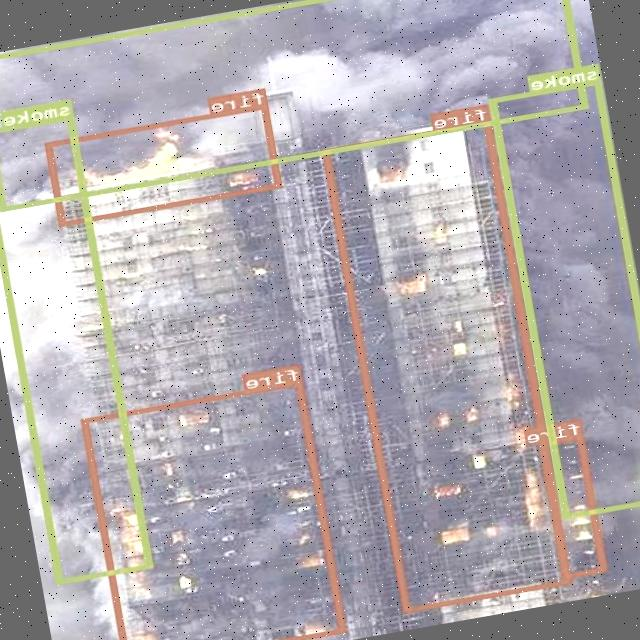fire: (324, 119, 572, 611), (83, 379, 348, 640), (47, 103, 283, 225), (540, 433, 608, 577)
smoke: (0, 0, 589, 210), (0, 114, 153, 583), (491, 78, 640, 517)
